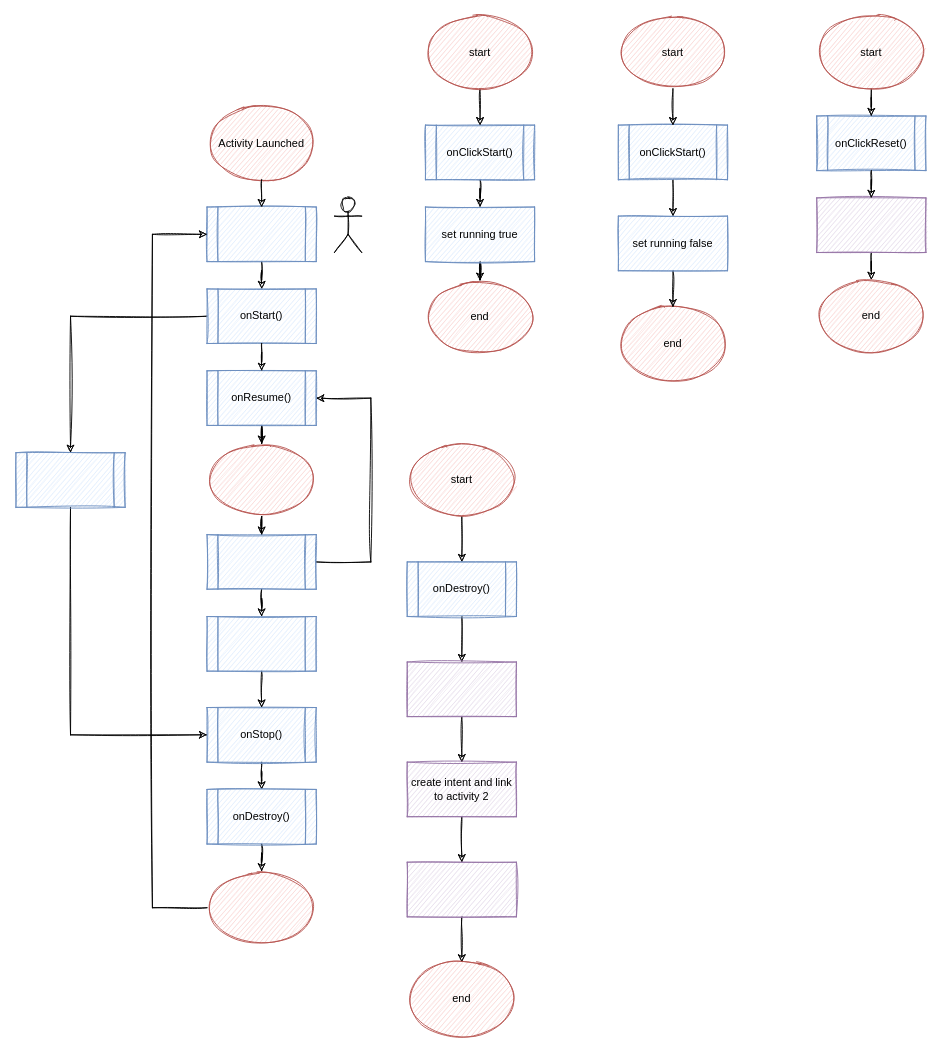
Image size: 942x1051. Some labels were removed from this diagram. The shapes that lost their labels are listed below. From the top down, each one's centre as x and y in pixels, then its label:
At point (261, 234): "onCreate()".
At point (348, 225): "Actor".
At point (871, 225): "seconds = 0;".
At point (70, 479): "onRestart()".
At point (261, 479): "Activity Running".
At point (261, 561): "onPause()".
At point (261, 643): "onSaveInstanceState()".
At point (461, 689): "call super class onDestroy".
At point (261, 907): "Activity Destroyed".
At point (461, 889): "start activity (intent)".
